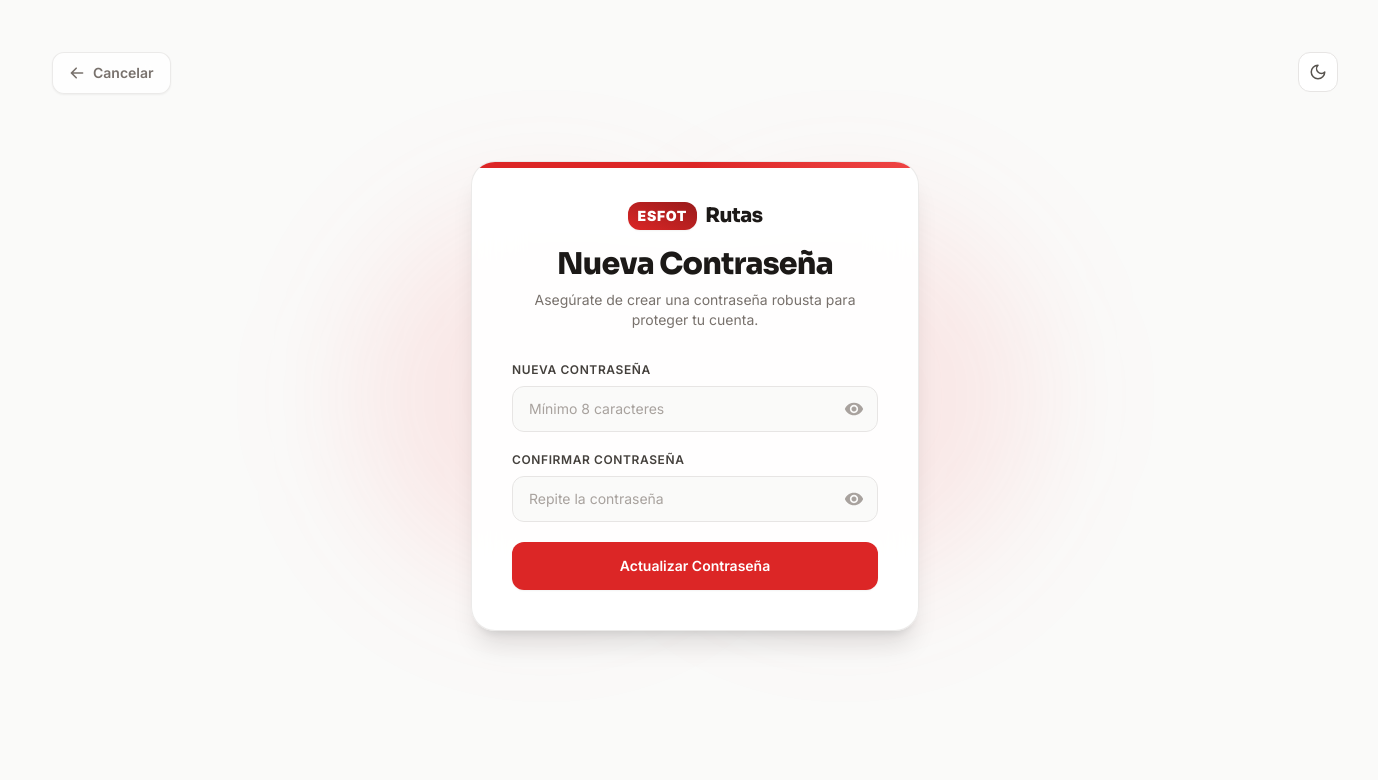
Reset — feedback dentro de la tarjeta › redirige a /login tras 2.5 segundos
Step 1. Type "NuevaClave123" into the password field with placeholder "Mínimo 8 caracteres" → (695, 409), box 512,386 -> 878,432
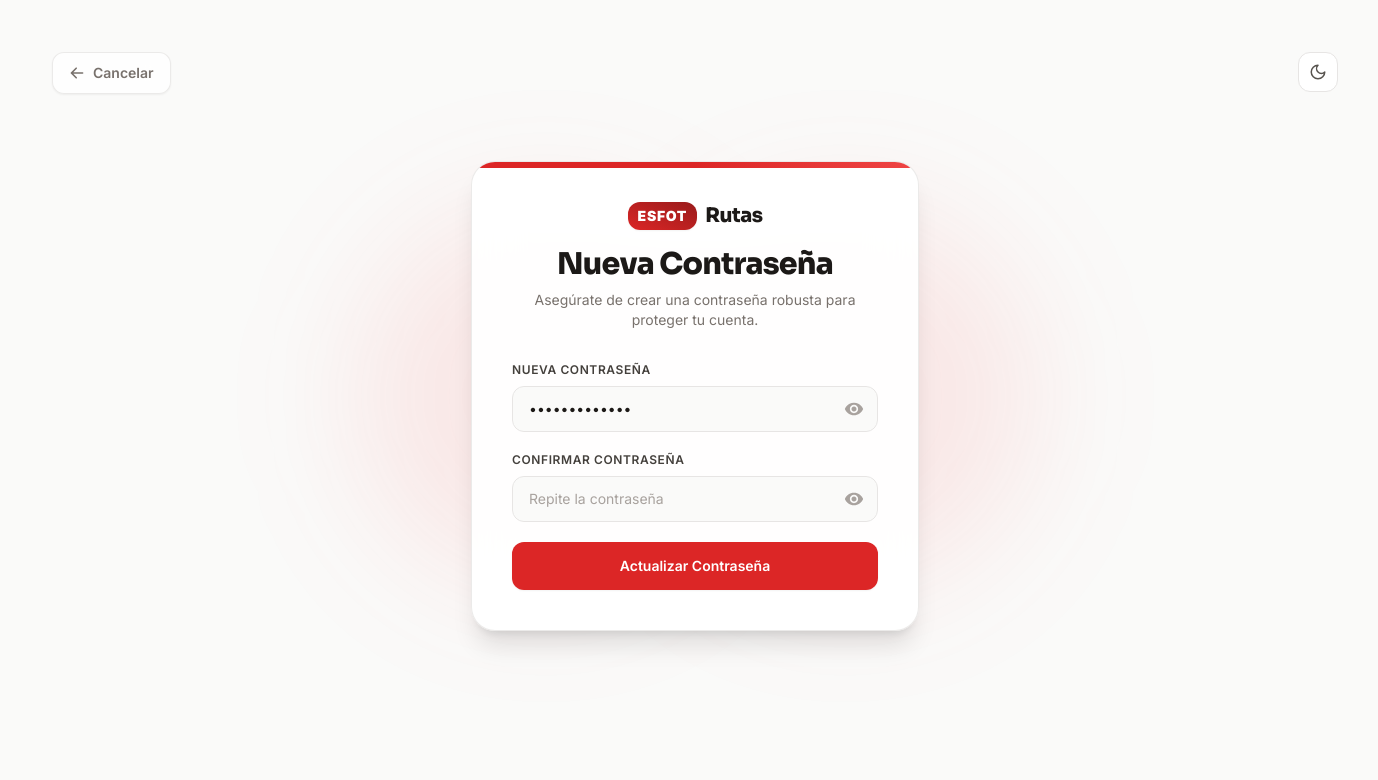
Step 2. Type "NuevaClave123" into the password field with placeholder "Repite la contraseña" → (695, 499), box 512,476 -> 878,522
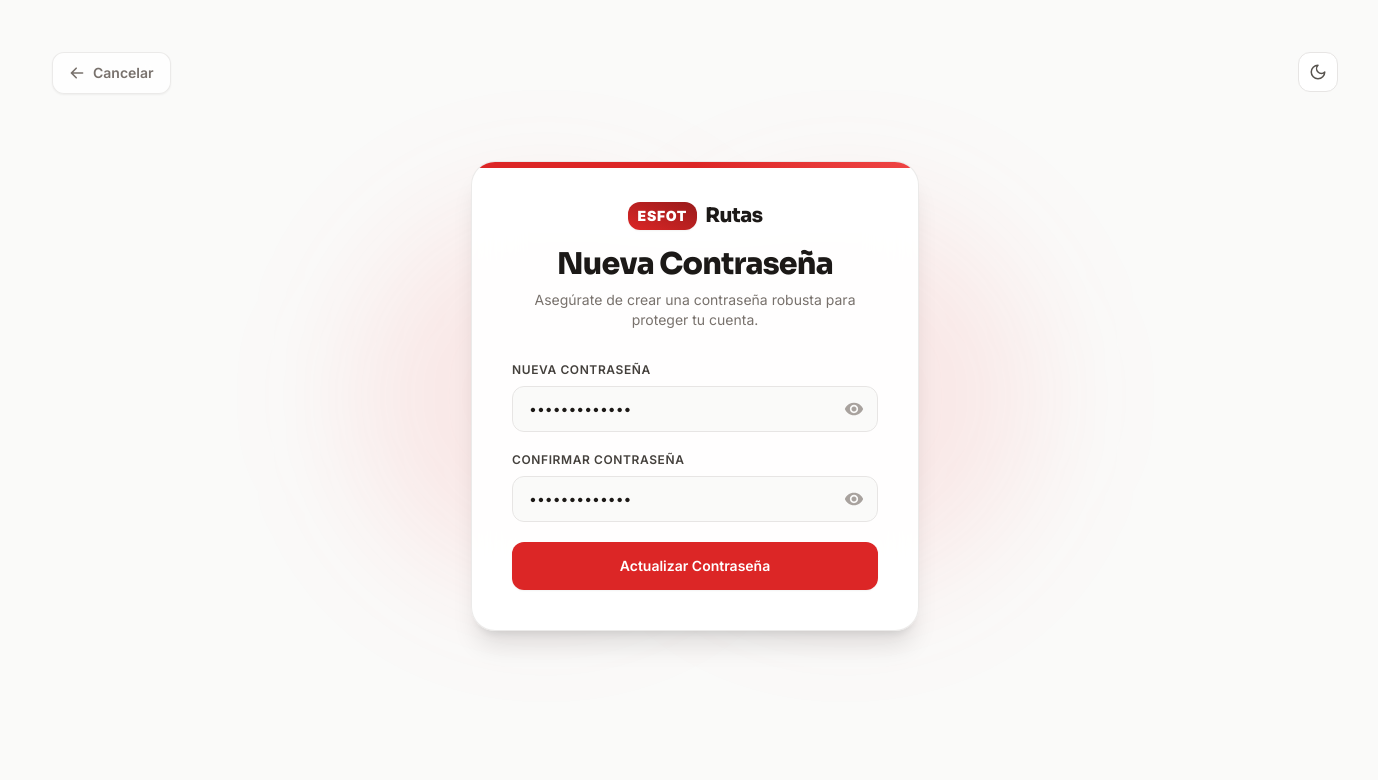
Step 3. Click the button "Actualizar Contraseña" → click(695, 566), box 512,542 -> 878,590
Wait 2500 ms
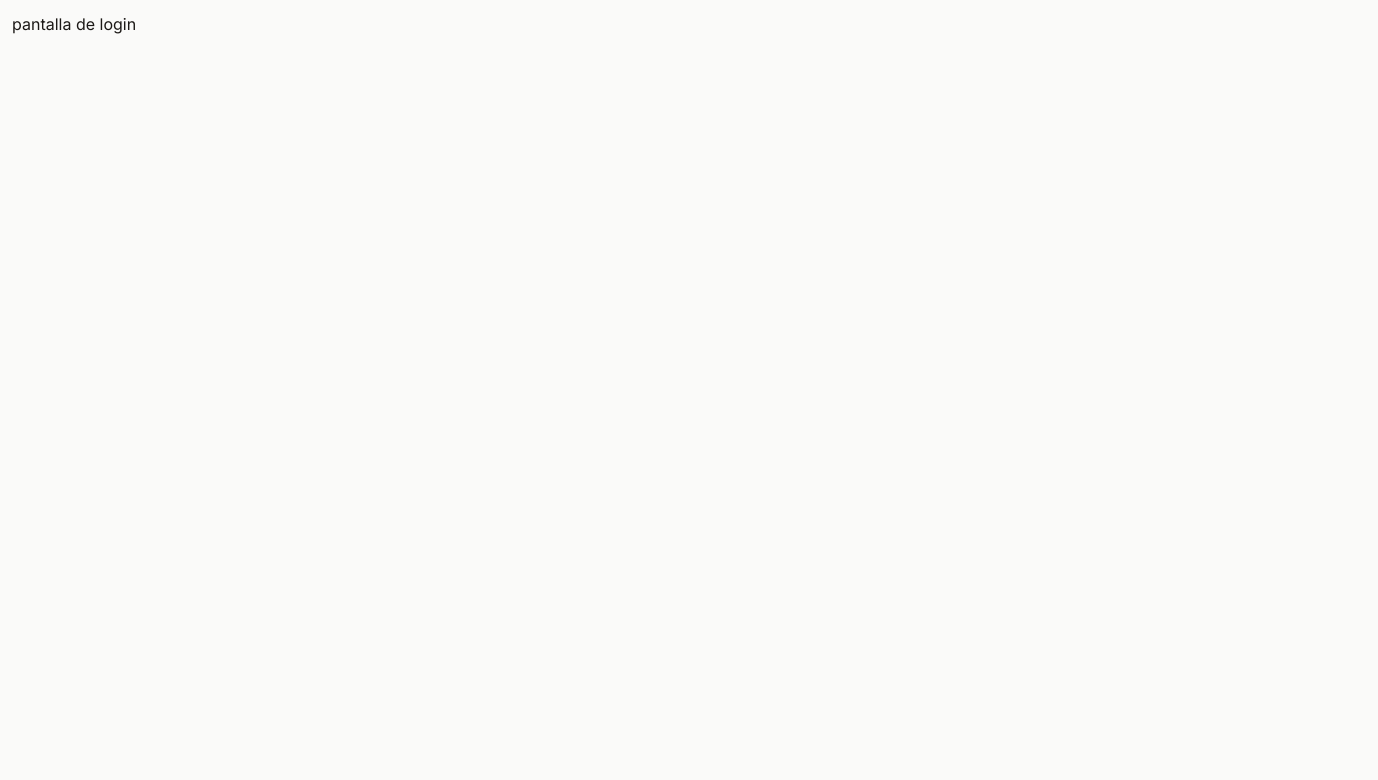
Check: the text "pantalla de login" is shown, box 12,14 -> 136,34
